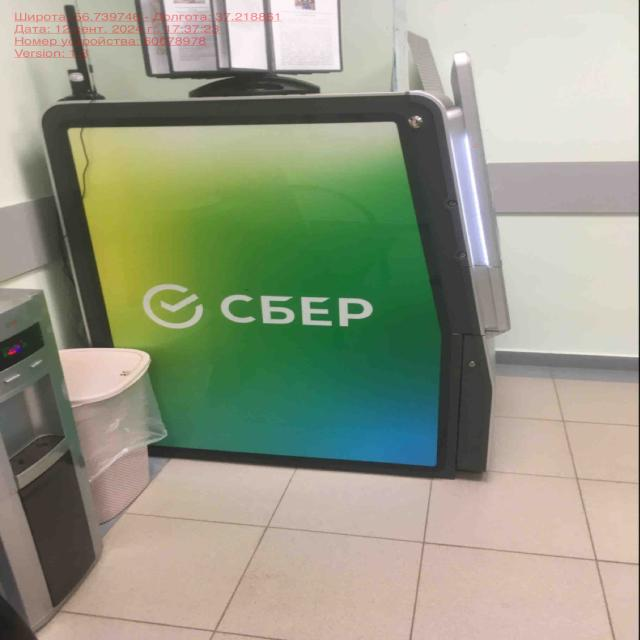bank: (42, 54, 512, 483)
